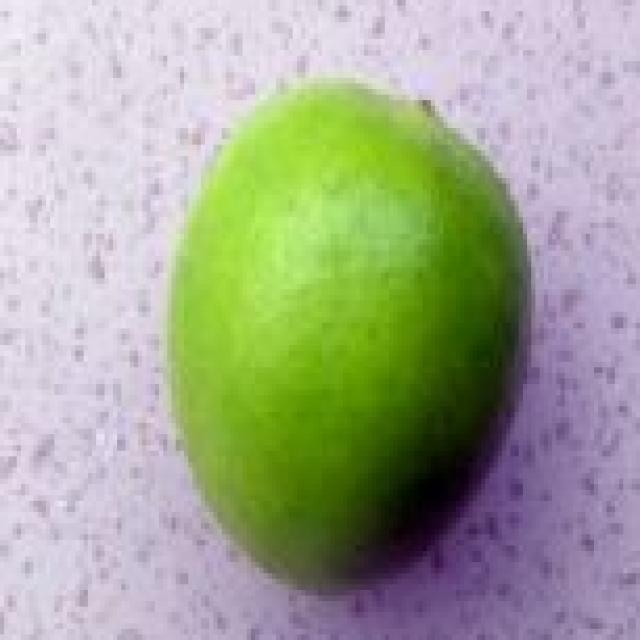Good_Lime-10-21-days: (159, 78, 531, 601)
